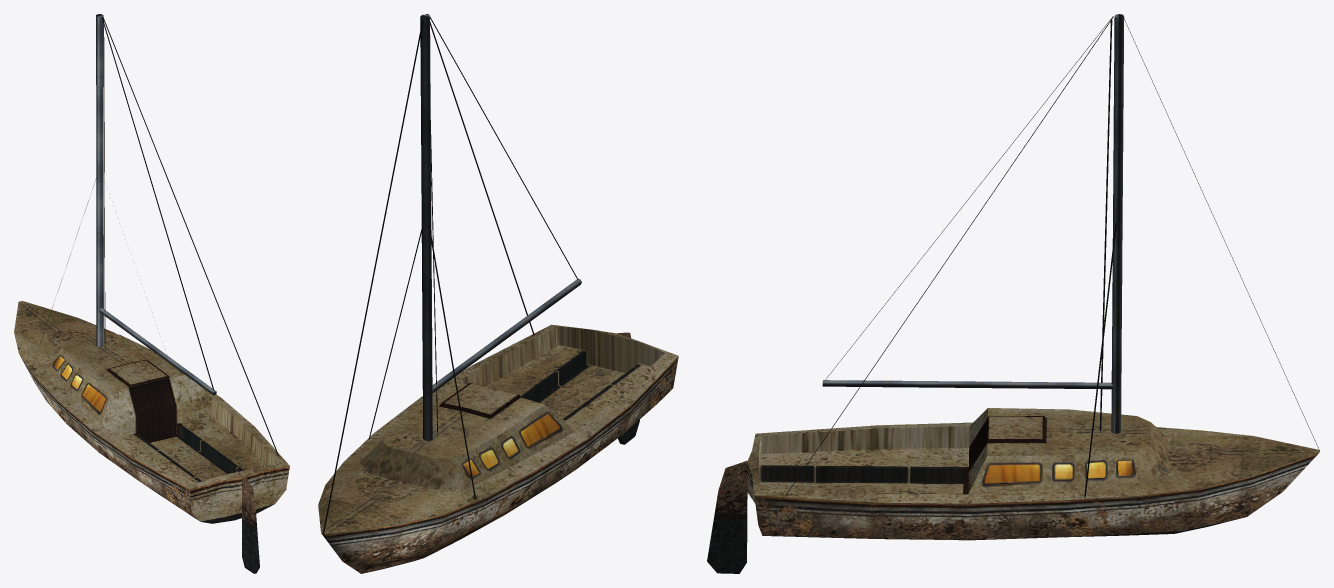
File: boat.fbx
3 views of the same model, side by side, from view 1: azimuth 30°, elevation 25°; view 2: azimuth 150°, elevation 25°; view 3: azimuth 270°, elevation 25° (orthographic). The views are drawn at different scales.
Parts seen in each view (by area): view 1: boat; view 2: boat; view 3: boat.
Boxes of the visible parts, <box> form: boat: <box>14,14,289,573</box>; boat: <box>318,14,678,573</box>; boat: <box>707,14,1319,573</box>.
Bounding box in the file's own units: 342 × 1105 × 1098.
Materials: 1 (1 with a texture image).
